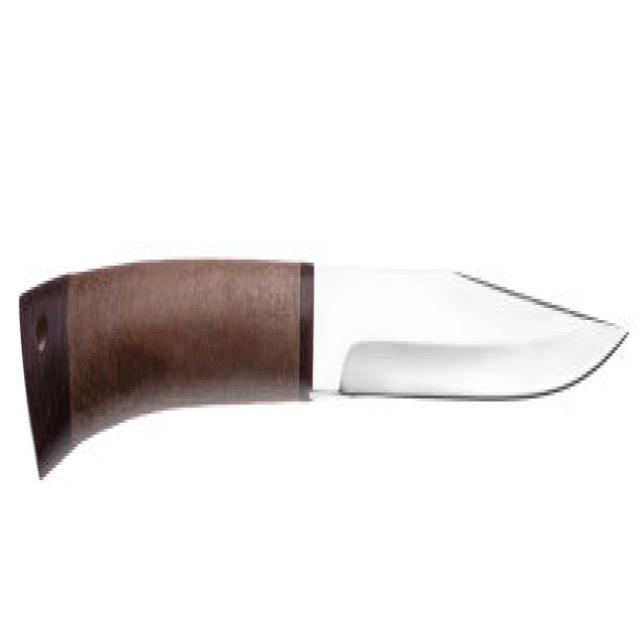knife: (16, 224, 631, 501)
